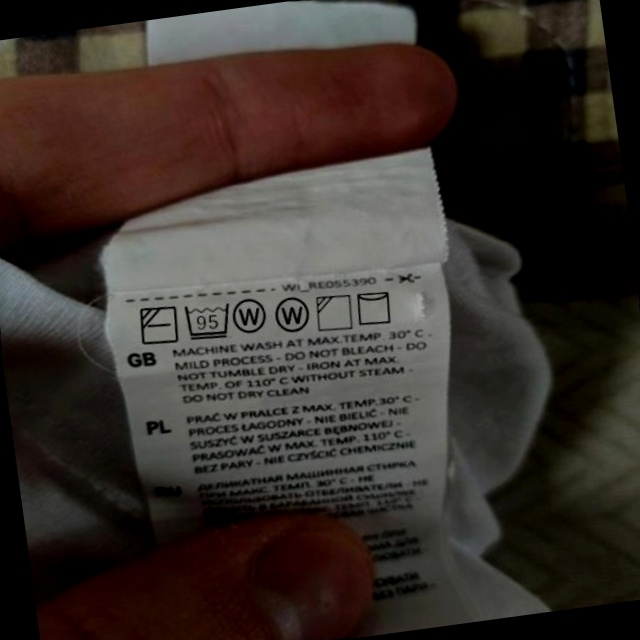95C: (180, 297, 236, 344)
dry_flat_in_shade: (135, 300, 182, 350)
line_dry: (352, 284, 398, 330)
shade_dry: (312, 289, 357, 336)
wet_clean: (271, 292, 315, 338), (230, 291, 272, 338)
